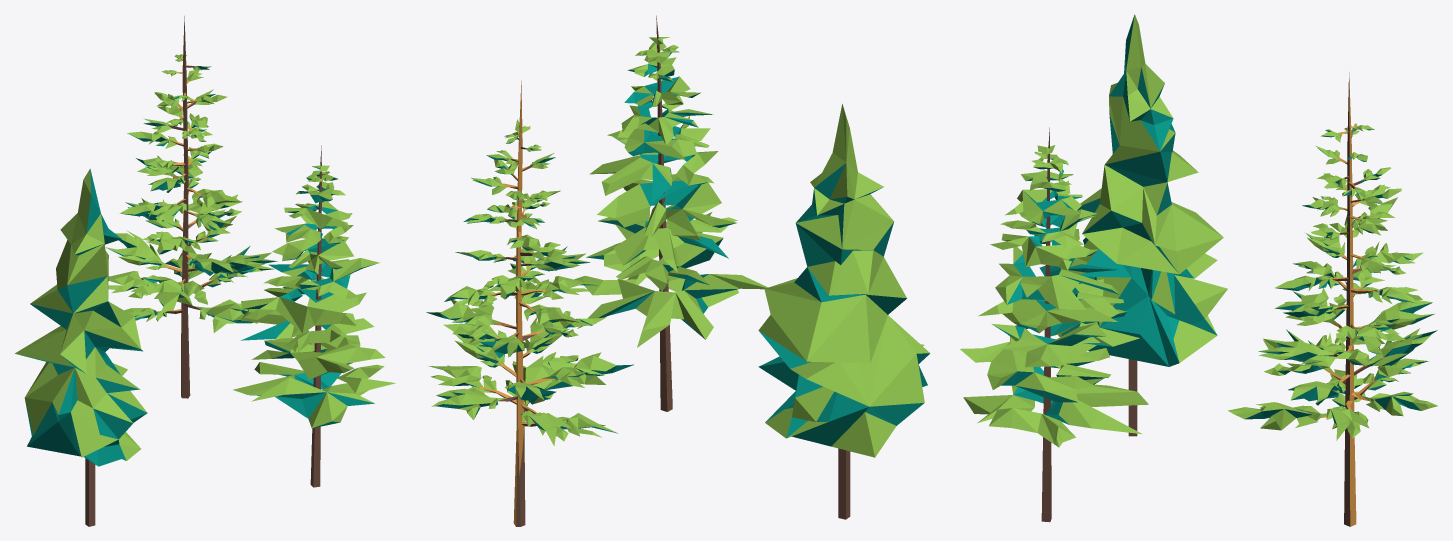
The model's file is Tree.glb.
3 views of the same model, side by side, from view 1: azimuth 30°, elevation 25°; view 2: azimuth 150°, elevation 25°; view 3: azimuth 270°, elevation 25° (orthographic). The views are drawn at different scales.
Parts seen in each view (by area): view 1: group871053052, group1955150288, group819735516; view 2: group871053052, group1955150288, group819735516; view 3: group871053052, group1955150288, group819735516.
Part boxes in pixels (x1,y1,x2,y2): group871053052: (15,168,147,526); group1955150288: (233,145,395,487); group819735516: (105,16,277,398); group871053052: (758,104,930,519); group1955150288: (574,15,767,411); group819735516: (426,80,633,526); group871053052: (1039,14,1227,436); group1955150288: (960,127,1148,522); group819735516: (1228,72,1437,526).
Bounding box in the file's own units: 4.19 × 4.78 × 4.4.
